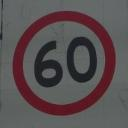speed_limit_60: (12, 10, 116, 116)
